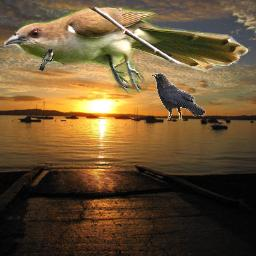Crow: (151, 73, 206, 120)
Cuckoo: (4, 7, 250, 93)
Swallow: (38, 48, 54, 71)
